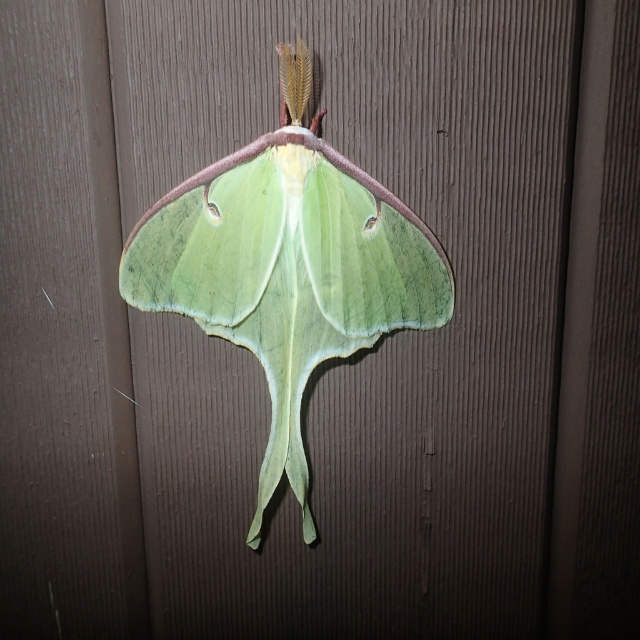Moths and butterflies: (116, 34, 456, 551)
